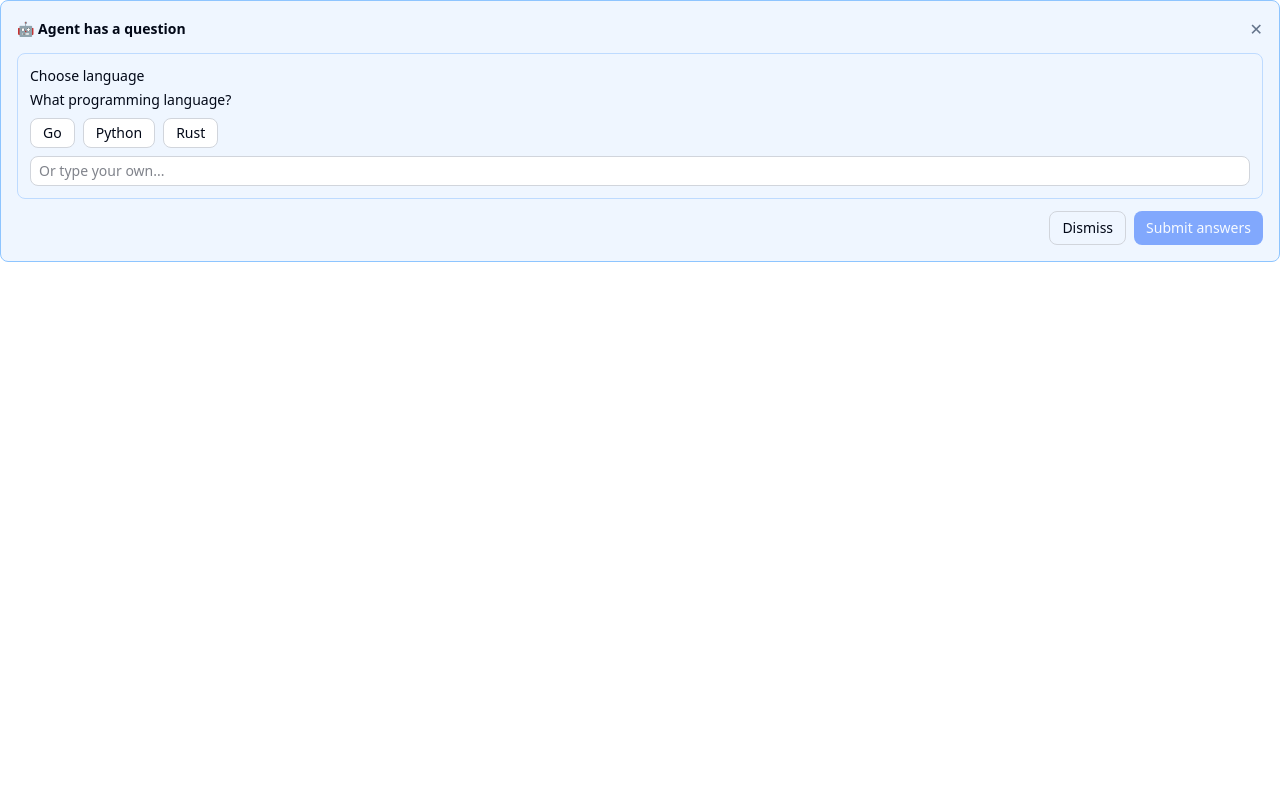
Scenario: QuestionPrompt › API error on submit shows error inline
Click the button "Go".
click(52, 133)  # box x1=30 y1=118 x2=75 y2=148
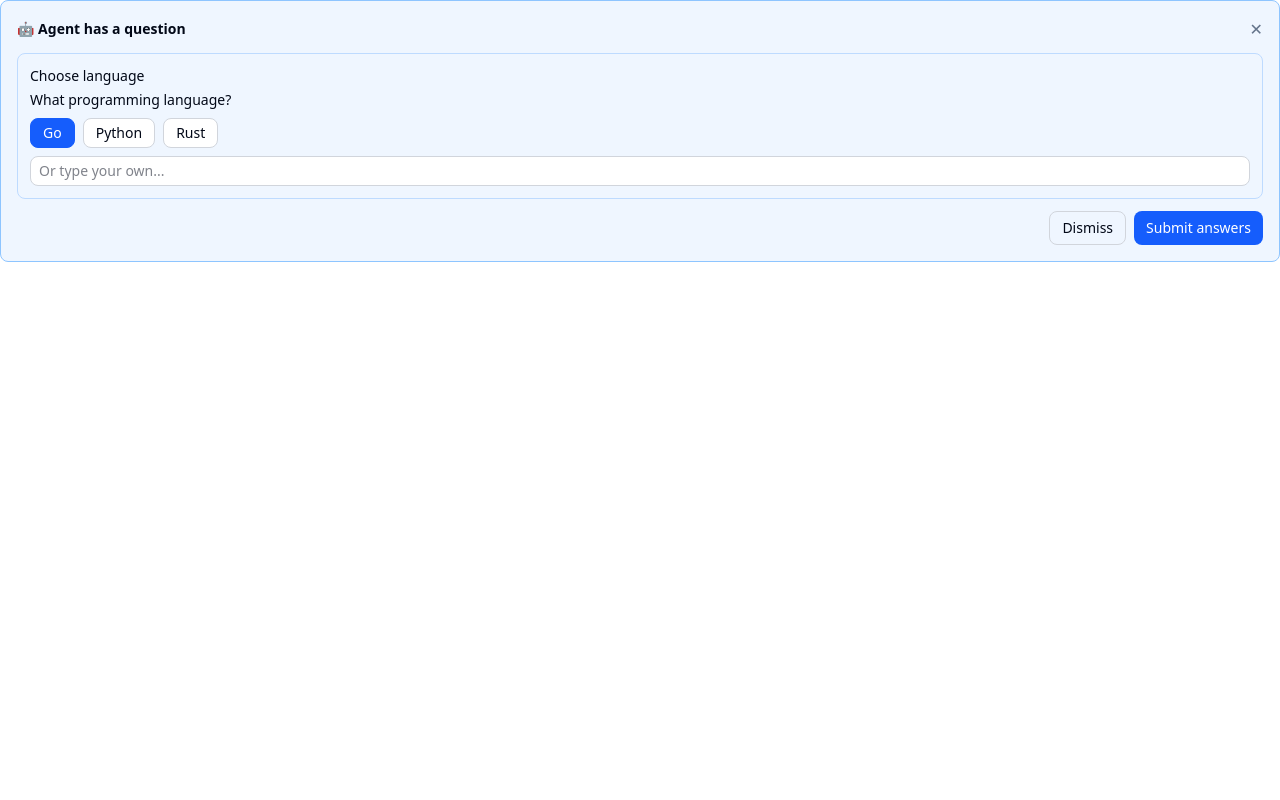
Click the button "Submit answers".
click(1198, 228)  # box x1=1134 y1=211 x2=1263 y2=245
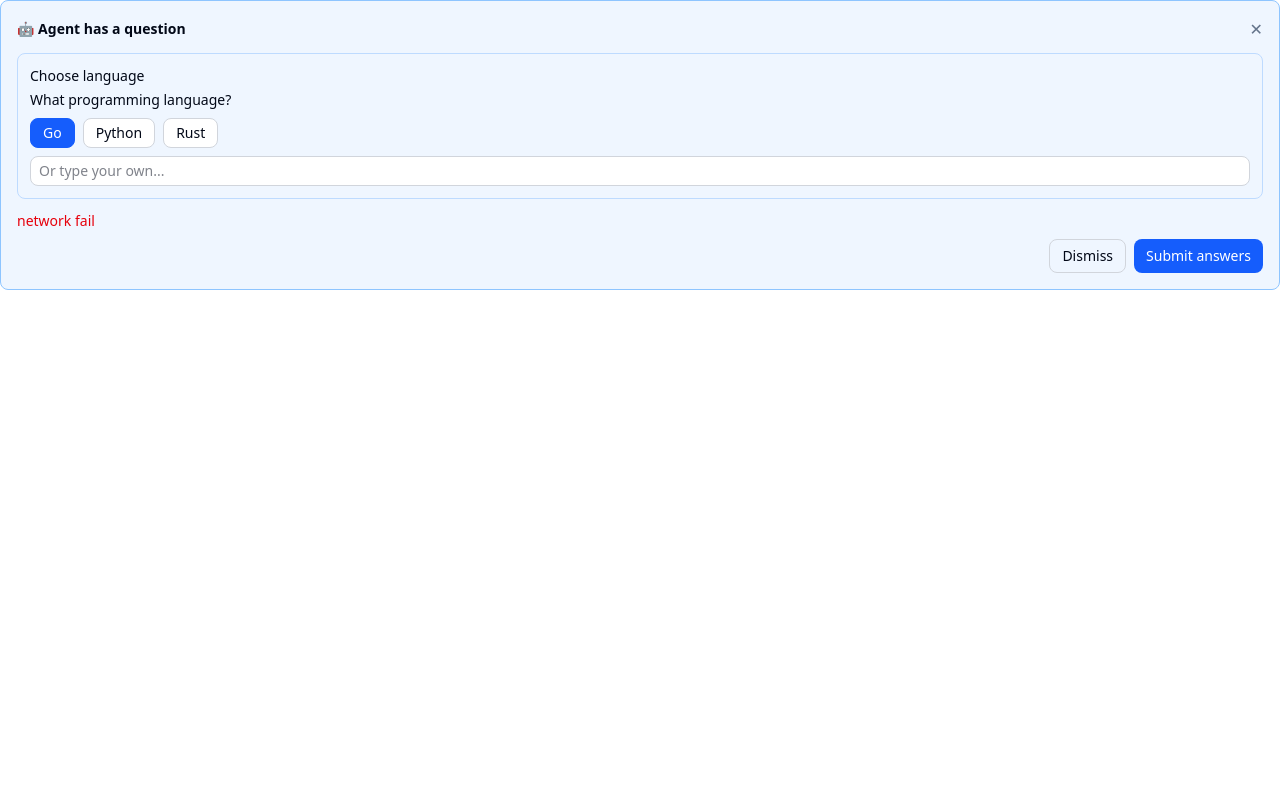
Expected: the text "network fail" is shown, x1=17 y1=211 x2=95 y2=230
